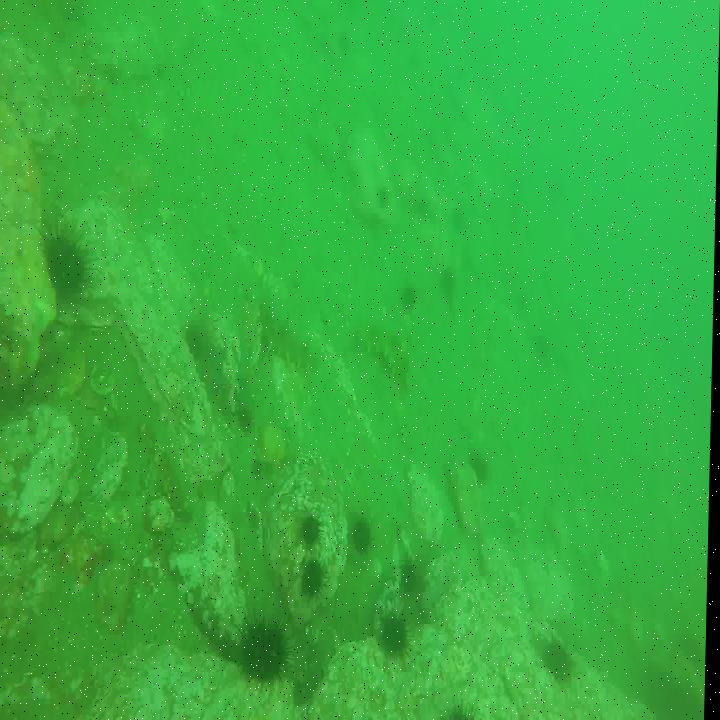echinus: (43, 223, 94, 303), (244, 621, 294, 682), (545, 634, 577, 686), (381, 612, 413, 664), (302, 558, 332, 605), (351, 516, 377, 562), (301, 507, 327, 552), (471, 445, 495, 487), (446, 697, 486, 720), (185, 326, 208, 364), (401, 558, 421, 595), (401, 281, 418, 311)
holothurian: (255, 300, 322, 375), (353, 317, 415, 387)
